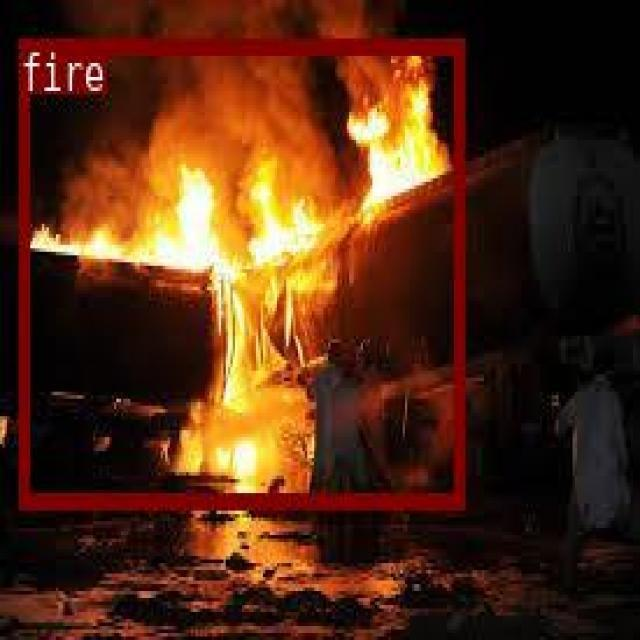fire: (17, 37, 463, 506)
